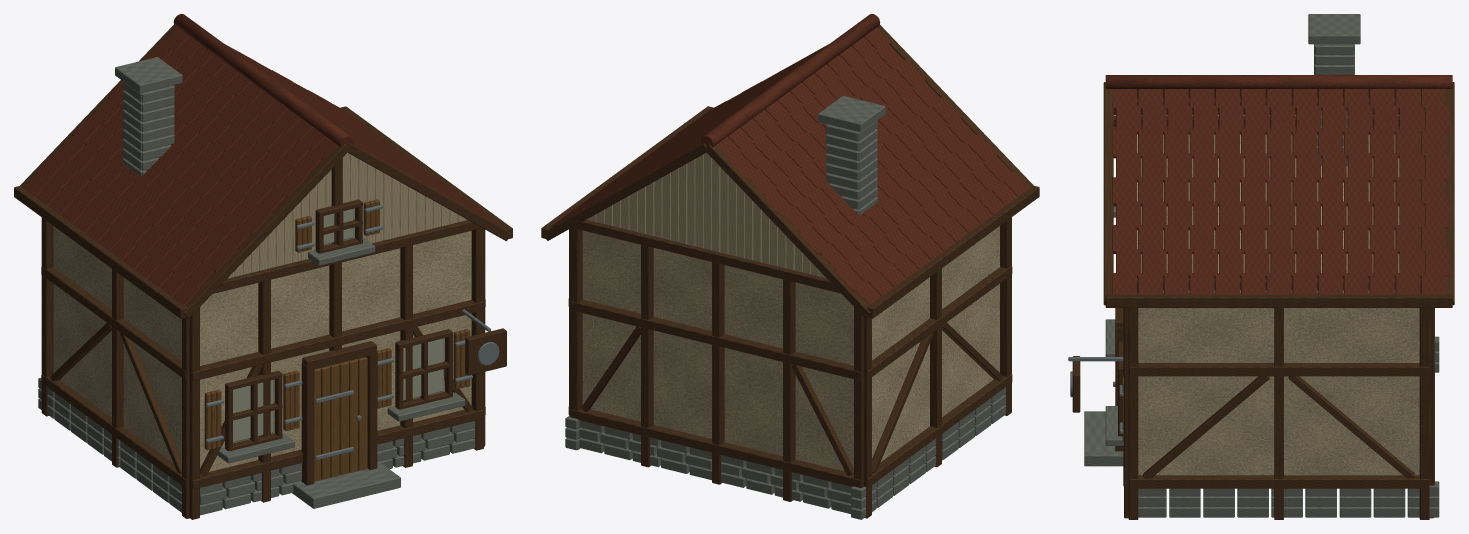
Rendered from townhouse.glb.
3 renders of one model, left to right at view 1: azimuth 30°, elevation 25°; view 2: azimuth 150°, elevation 25°; view 3: azimuth 270°, elevation 25°, orthographic. The views are drawn at different scales.
Visible parts, largest first — view 1: townhouse; view 2: townhouse; view 3: townhouse.
Part boxes in pixels (x1,y1,x2,y2): townhouse: (14,14,512,519); townhouse: (541,14,1039,519); townhouse: (1068,14,1454,519).
Bounding box in the file's own units: 6.44 × 6.68 × 6.23.
7 materials, 5 textured.
